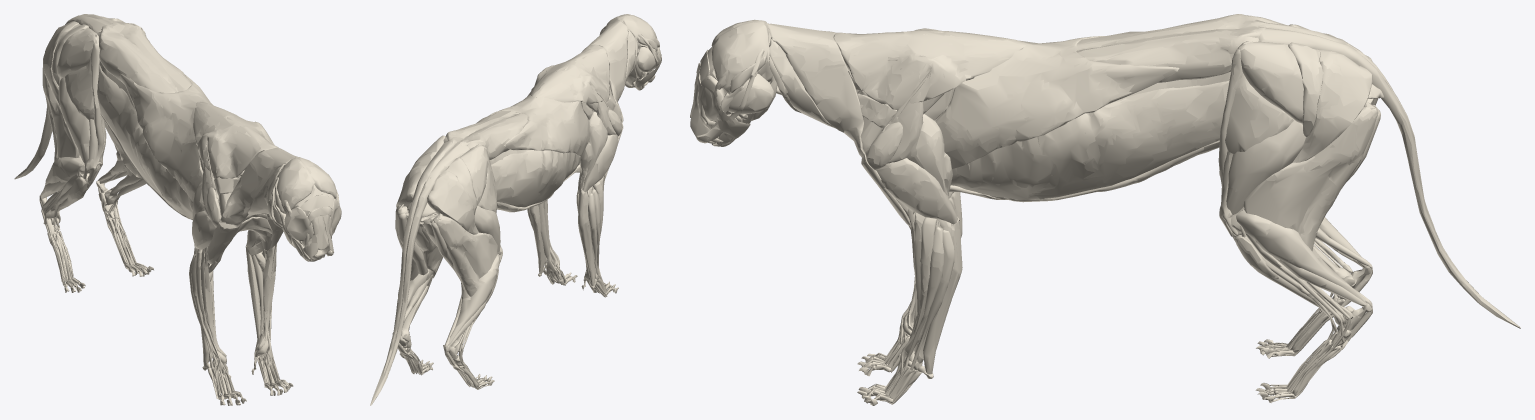
Rendered from feline-ecorche-westerly-detail-607078aa25e4.glb.
The picture shows the model from 3 angles, left to right: view 1: azimuth 30°, elevation 25°; view 2: azimuth 150°, elevation 25°; view 3: azimuth 270°, elevation 25°; orthographic projection. The views are drawn at different scales.
Visible parts, largest first — view 1: specimen; view 2: specimen; view 3: specimen.
Boxes of the visible parts, left/top/right/bottom form: specimen: left=14, top=14, right=341, bottom=405; specimen: left=370, top=14, right=661, bottom=405; specimen: left=690, top=14, right=1520, bottom=405.
Size of the model in its own units: 0.3614 by 0.9671 by 2.
